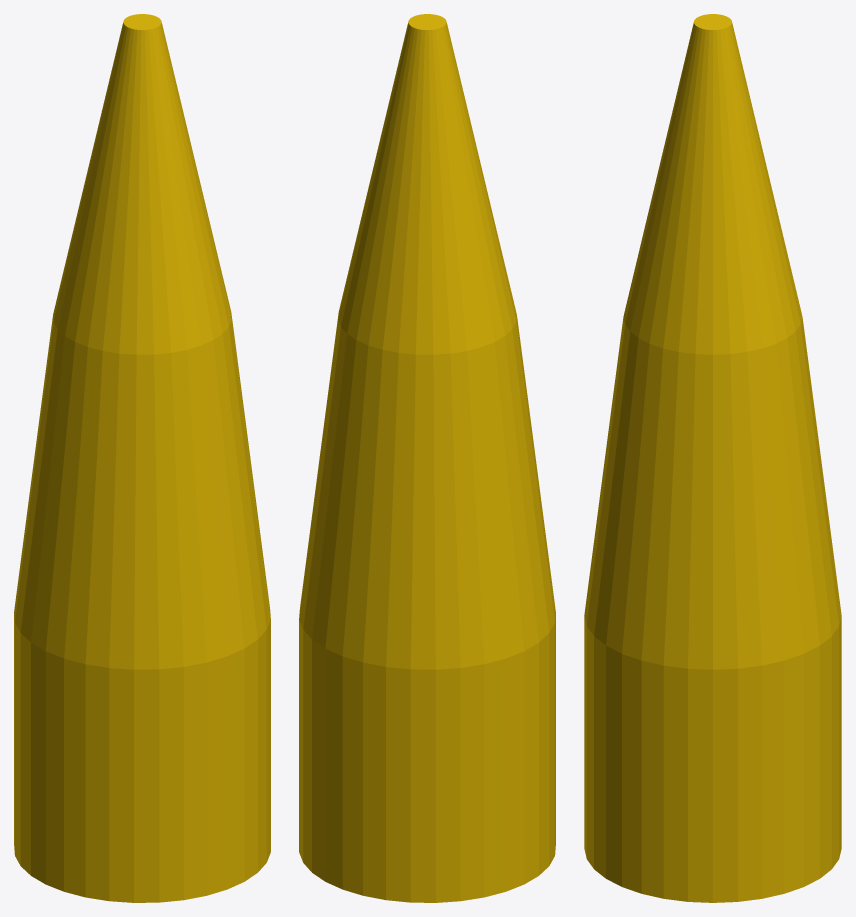
The model's file is bulet.fbx.
3 renders of one model, left to right at view 1: azimuth 30°, elevation 25°; view 2: azimuth 150°, elevation 25°; view 3: azimuth 270°, elevation 25°, orthographic.
Visible parts, largest first — view 1: Cylinder; view 2: Cylinder; view 3: Cylinder.
Boxes of the visible parts, x1=… form: Cylinder: x1=14, y1=14, x2=270, y2=902; Cylinder: x1=299, y1=14, x2=555, y2=902; Cylinder: x1=584, y1=14, x2=841, y2=902.
Size of the model in its own units: 200 by 709 by 200.
